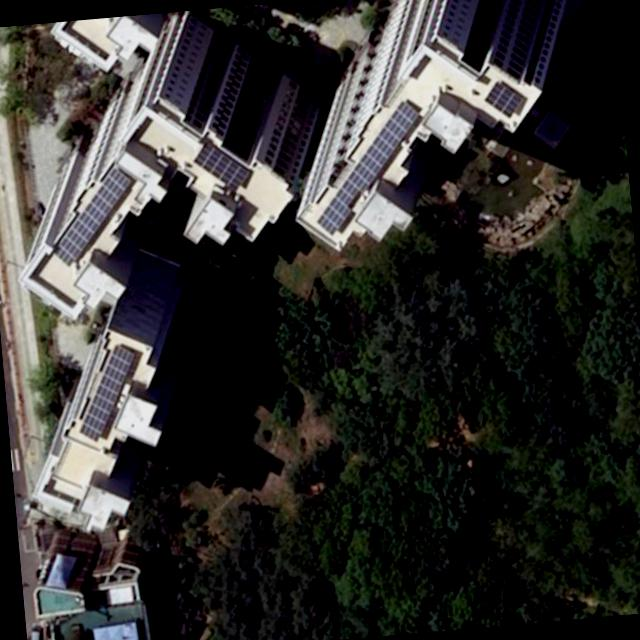solar: (304, 98, 432, 236), (44, 166, 141, 268), (70, 342, 142, 444), (190, 134, 253, 198), (482, 76, 526, 121)
